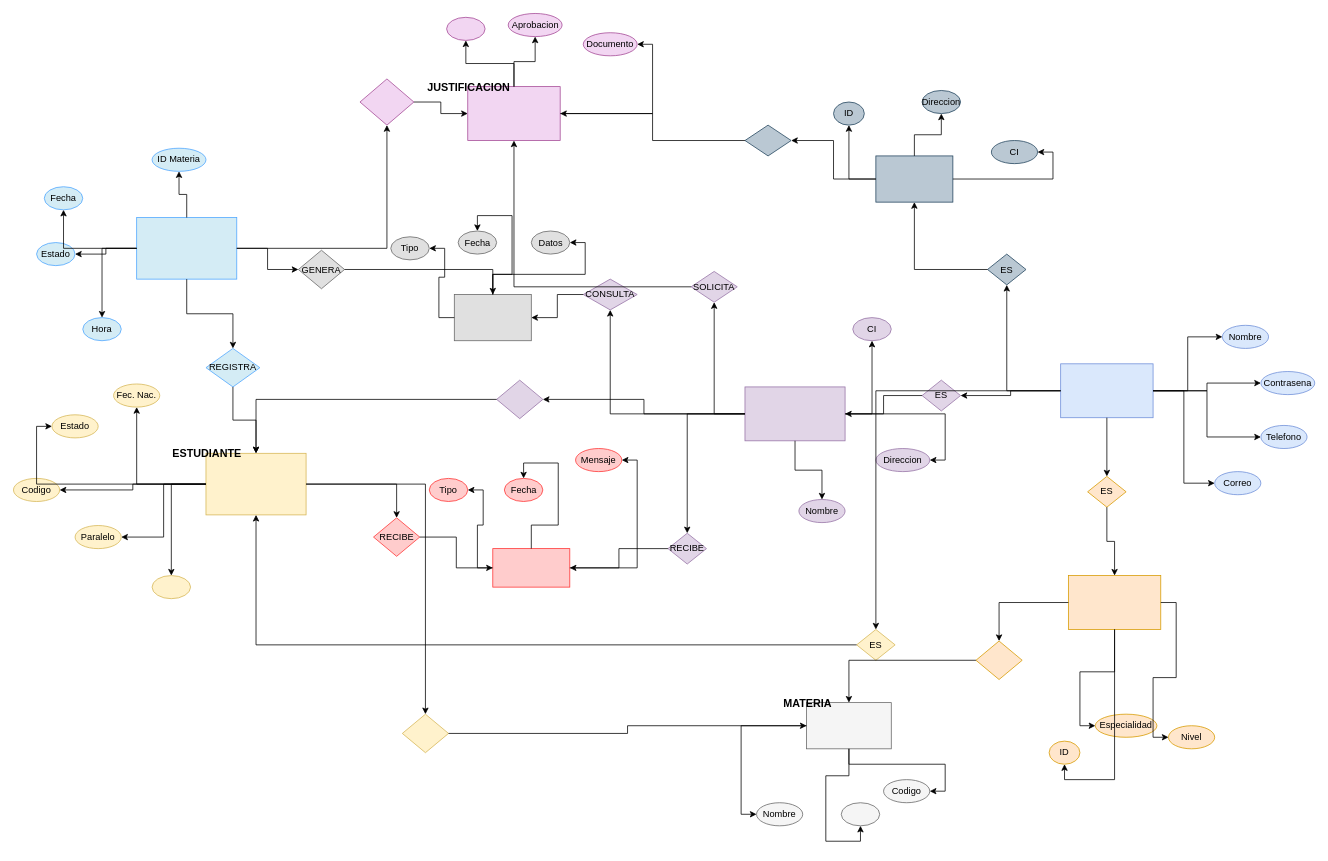
The diagram is 1328 pixels wide and 861 high, and some of its shapes have lost their labels. The box of each missing label's shape, as (x1, y1, x2, y2) in pixels:
ALERTA: (492, 548, 570, 587)
APRUEBA: (744, 124, 791, 156)
Area: (840, 802, 880, 826)
ASISTENCIA: (136, 217, 237, 279)
CURSA: (402, 713, 449, 753)
Curso: (151, 575, 191, 599)
DICTA: (975, 640, 1022, 680)
Motivo: (446, 17, 485, 40)
PADRE/TUTOR: (744, 386, 845, 441)
PROFESOR: (1068, 575, 1161, 629)
REGENTE: (875, 155, 953, 202)
REPORTE: (454, 294, 531, 341)
TIENE: (496, 379, 543, 419)
TIENE JUSTIF.: (359, 78, 414, 125)
USUARIO: (1060, 363, 1153, 418)
